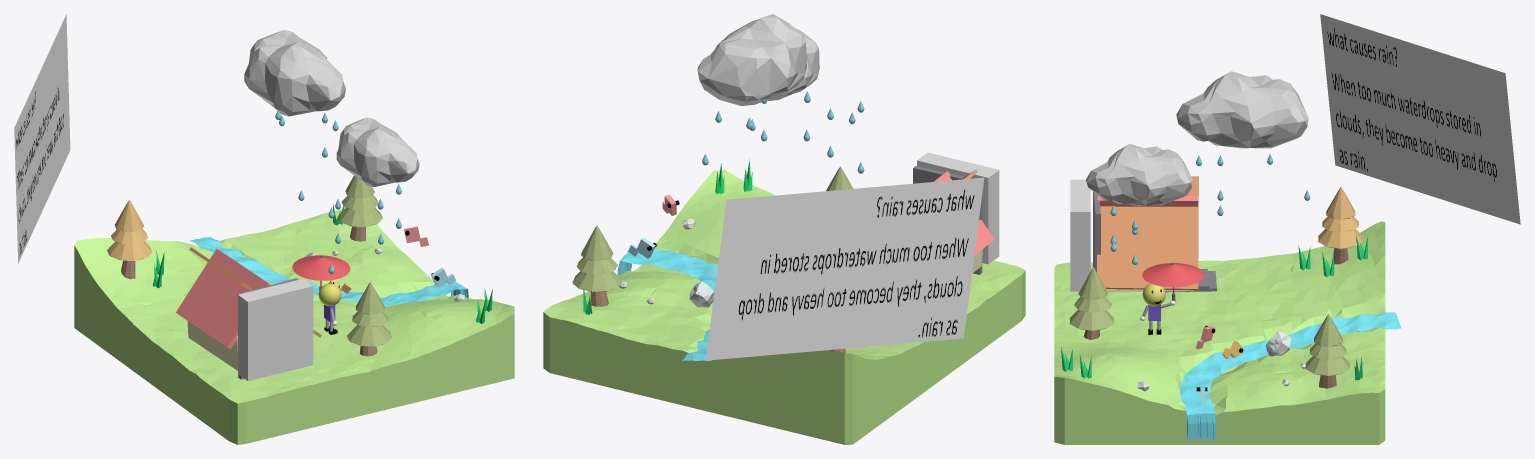
File: rainQ1.glb
The picture shows the model from 3 angles, left to right: view 1: azimuth 30°, elevation 25°; view 2: azimuth 150°, elevation 25°; view 3: azimuth 270°, elevation 25°; orthographic projection. The views are drawn at different scales.
Visible parts, largest first — view 1: terrain, pPlane2, Cube, cloud, house:pCube6, clouds:pPlatonic1, water, umbrella:Mesh, house:pCube4, pCylinder1, trees:pCylinder8, trees:pCylinder1 (+2 smaller); view 2: terrain, pPlane2, cloud, Cube, water, clouds:pPlatonic1, trees:pCylinder1, trees:pCylinder4, house:pCube11, trees:pCylinder3, stone:pPlatonic2, house:pCube6; view 3: terrain, pPlane2, cloud, house:pCube5, clouds:pPlatonic1, water, Cube, umbrella:Mesh, pCylinder1, trees:pCylinder8, trees:pCylinder1, trees:pCylinder7 (+8 smaller).
Part boxes in pixels (x1,y1,x2,y2): terrain: (74, 209, 514, 444); pPlane2: (14, 14, 70, 263); Cube: (238, 279, 313, 380); cloud: (244, 30, 345, 116); house:pCube6: (175, 248, 271, 349); clouds:pPlatonic1: (336, 117, 419, 186); water: (189, 236, 468, 306); umbrella:Mesh: (292, 255, 350, 286); house:pCube4: (187, 321, 237, 370); pCylinder1: (347, 324, 392, 346); trees:pCylinder8: (107, 241, 152, 260); trees:pCylinder1: (338, 207, 382, 226); terrain: (543, 169, 1025, 444); pPlane2: (705, 177, 984, 360); cloud: (697, 14, 806, 105); Cube: (917, 152, 999, 264); water: (617, 249, 717, 360); clouds:pPlatonic1: (767, 27, 819, 100); trees:pCylinder1: (572, 271, 622, 292); trees:pCylinder4: (581, 226, 613, 260); house:pCube11: (913, 166, 982, 274); trees:pCylinder3: (576, 257, 617, 274); stone:pPlatonic2: (689, 281, 714, 307); house:pCube6: (933, 171, 994, 255); terrain: (1054, 221, 1385, 444); pPlane2: (1320, 14, 1520, 224); cloud: (1176, 71, 1308, 148); house:pCube5: (1097, 176, 1198, 290); clouds:pPlatonic1: (1086, 144, 1192, 205); water: (1180, 312, 1400, 440); Cube: (1070, 179, 1090, 291); umbrella:Mesh: (1142, 263, 1204, 294); pCylinder1: (1069, 310, 1114, 330); trees:pCylinder8: (1318, 228, 1362, 248); trees:pCylinder1: (1305, 356, 1350, 375); trees:pCylinder7: (1326, 187, 1355, 219).
Size of the model in its own units: 0.4613 by 0.3485 by 0.4738.
29 materials, 1 textured.
